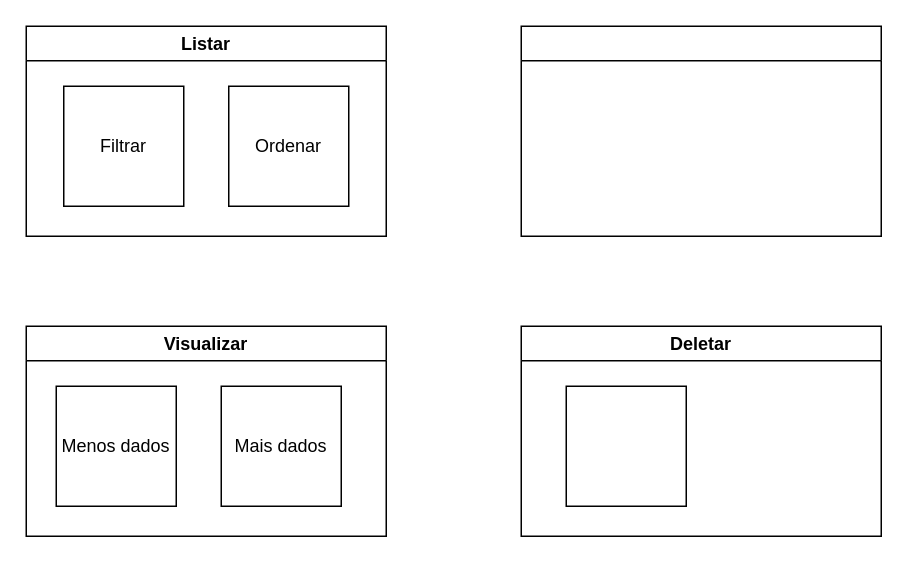
Some shapes in this 908 by 563 pixel diagram are drawn without their labels. The centre of each missing label's shape, as x and y in pixels:
"Confirmação" belongs at [625,445].
"Editar" belongs at [700,130].
